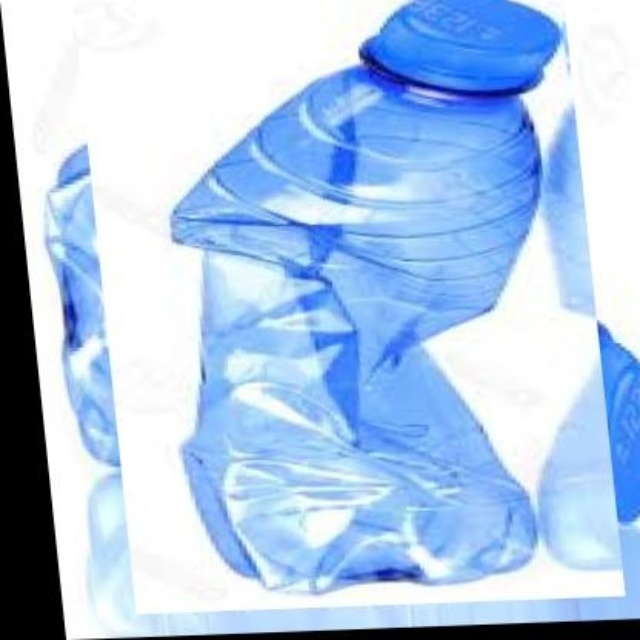trash: (172, 0, 560, 591)
